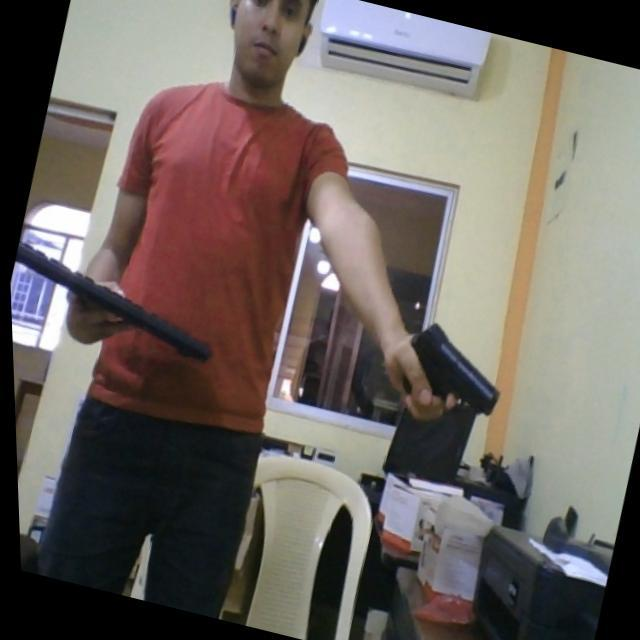weapon: (372, 313, 512, 432)
